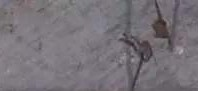Exposed reinforcement: (132, 53, 145, 91), (154, 1, 165, 26)
Spalling: (150, 19, 170, 40), (139, 39, 153, 64)
